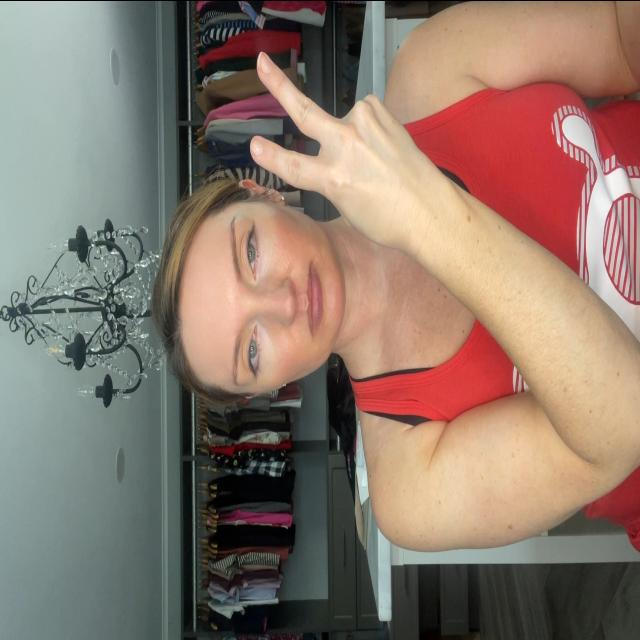Scissors: (250, 50, 417, 234)
